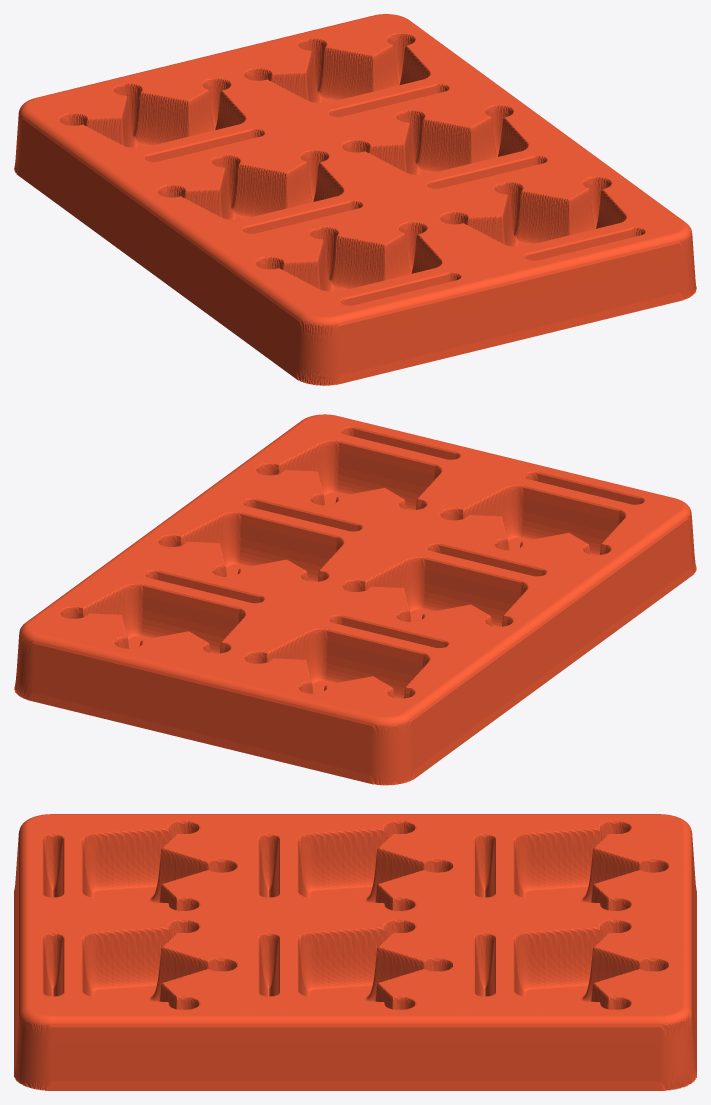
File: mold.glb
The picture shows the model from 3 angles, top to bottom: view 1: azimuth 30°, elevation 25°; view 2: azimuth 150°, elevation 25°; view 3: azimuth 270°, elevation 25°; orthographic projection. The views are drawn at different scales.
Visible parts, largest first — view 1: geometry_0; view 2: geometry_0; view 3: geometry_0.
Boxes of the visible parts, x1,y1,x2,y2 form: geometry_0: [14, 14, 696, 385]; geometry_0: [14, 414, 696, 785]; geometry_0: [14, 814, 696, 1090].
Size of the model in its own units: 0.1222 by 0.0185 by 0.1657.
